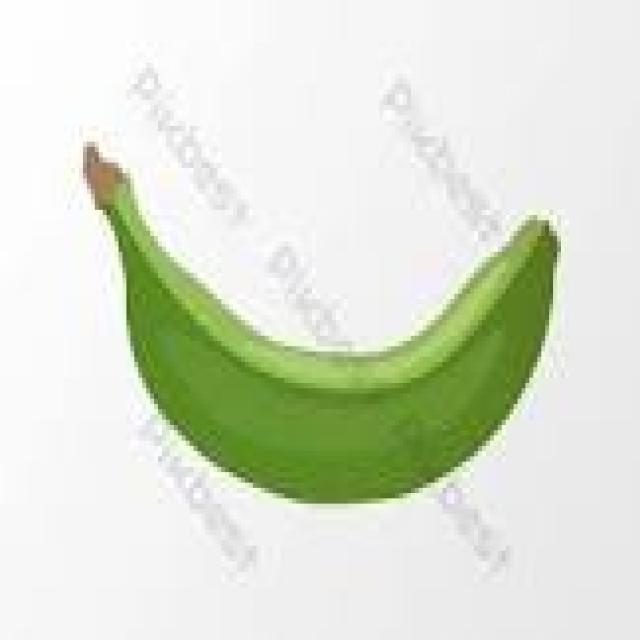banana: (87, 153, 557, 503)
